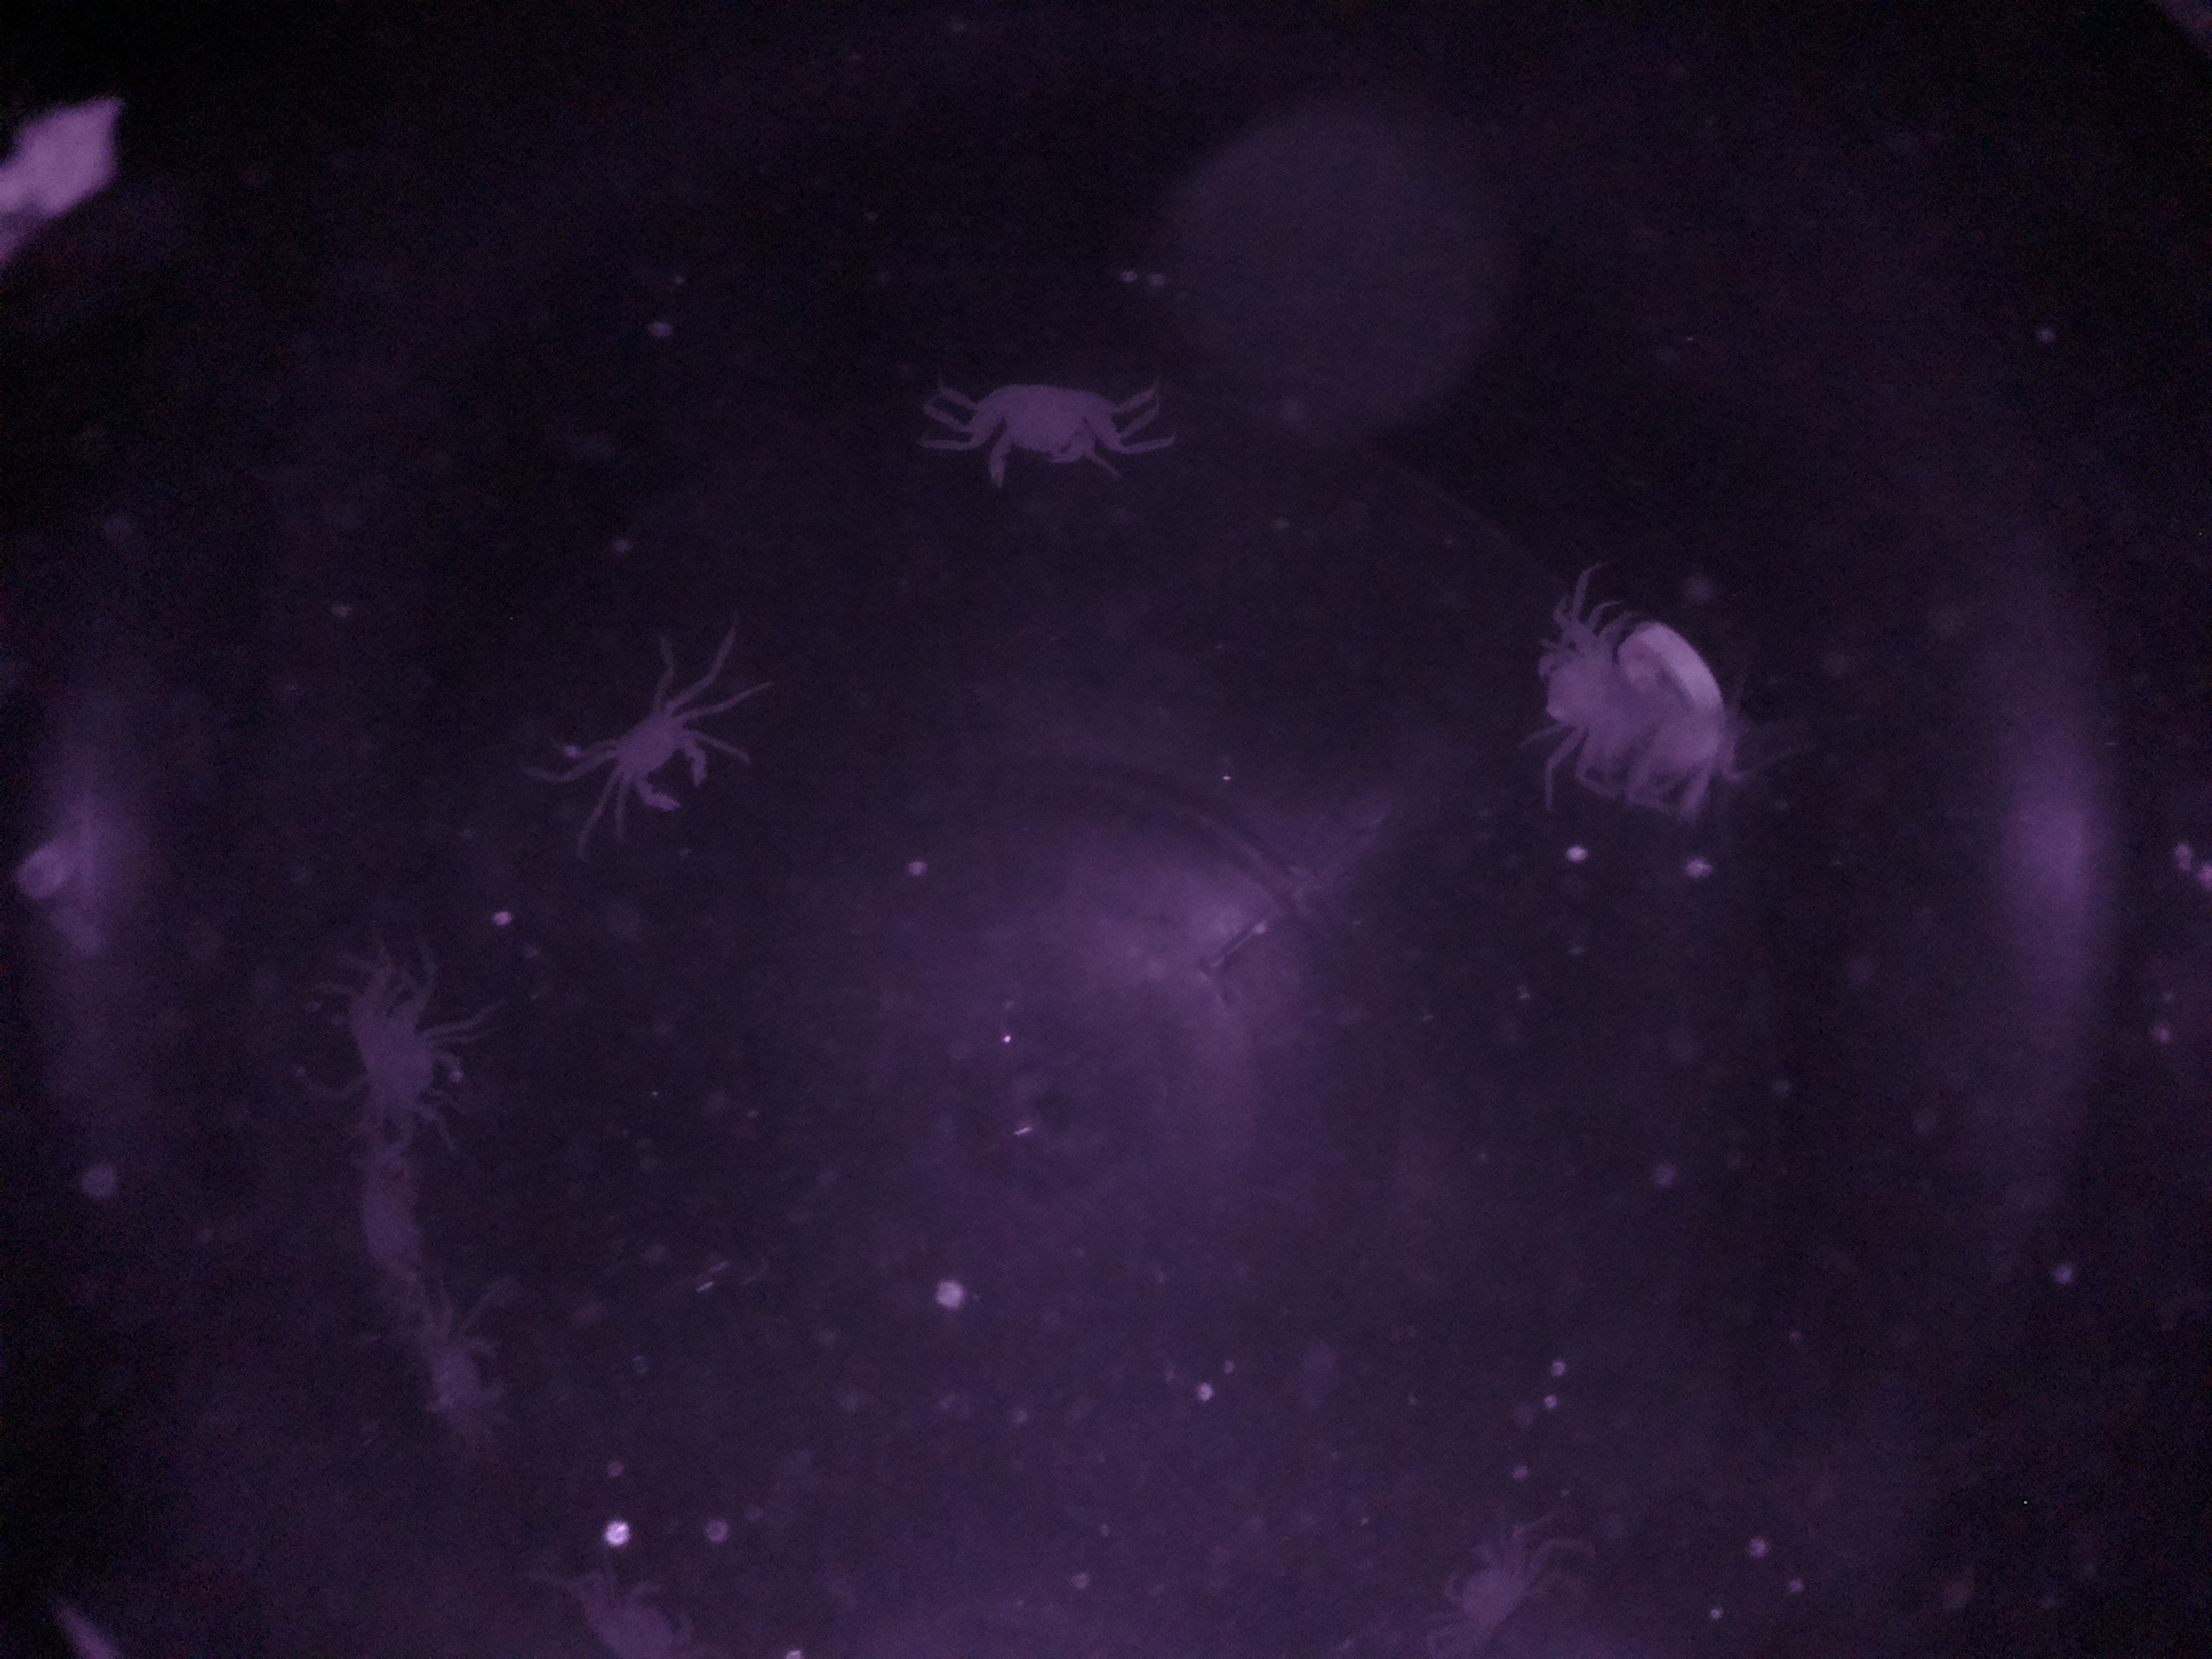Crab: (949, 342, 1151, 500), (561, 669, 758, 828)
